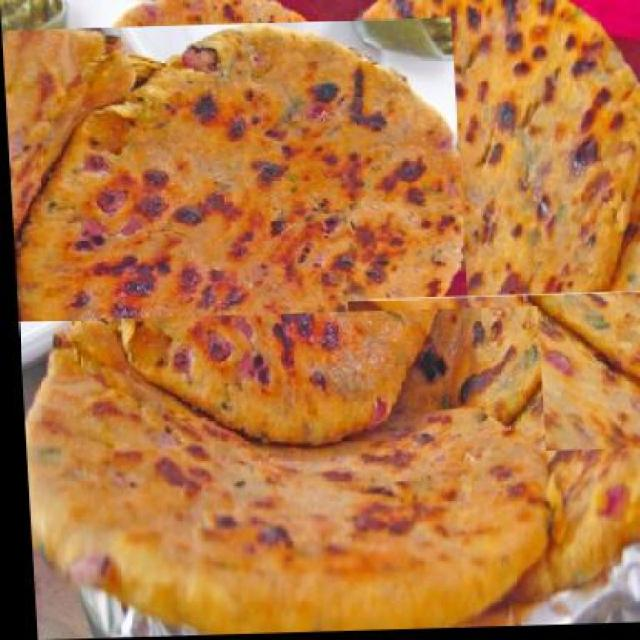chapati: (11, 6, 455, 440), (15, 310, 550, 638), (334, 0, 638, 434), (414, 218, 638, 536)
